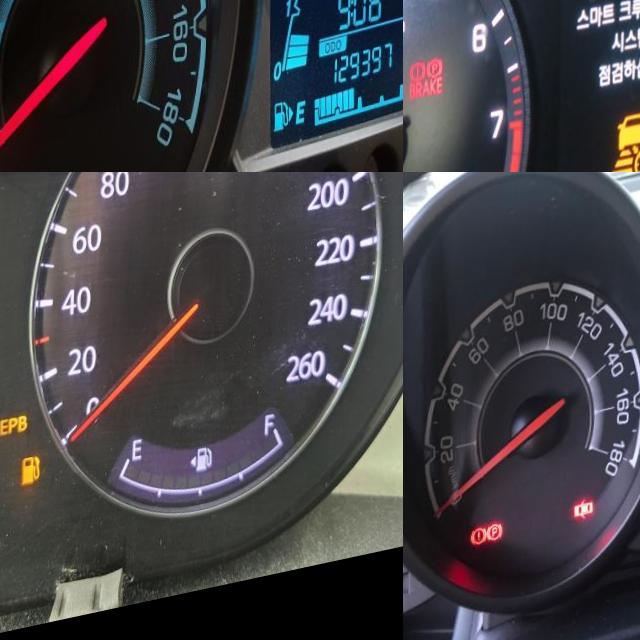Doors: (574, 509, 595, 534)
Low fuel level: (22, 460, 43, 493)
